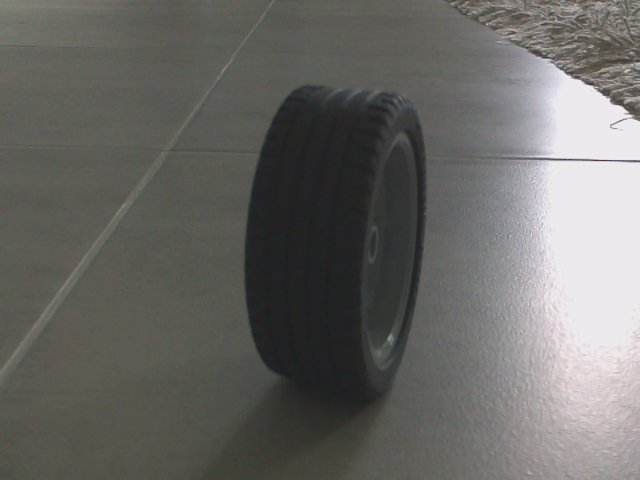Rad: (238, 77, 433, 407)
